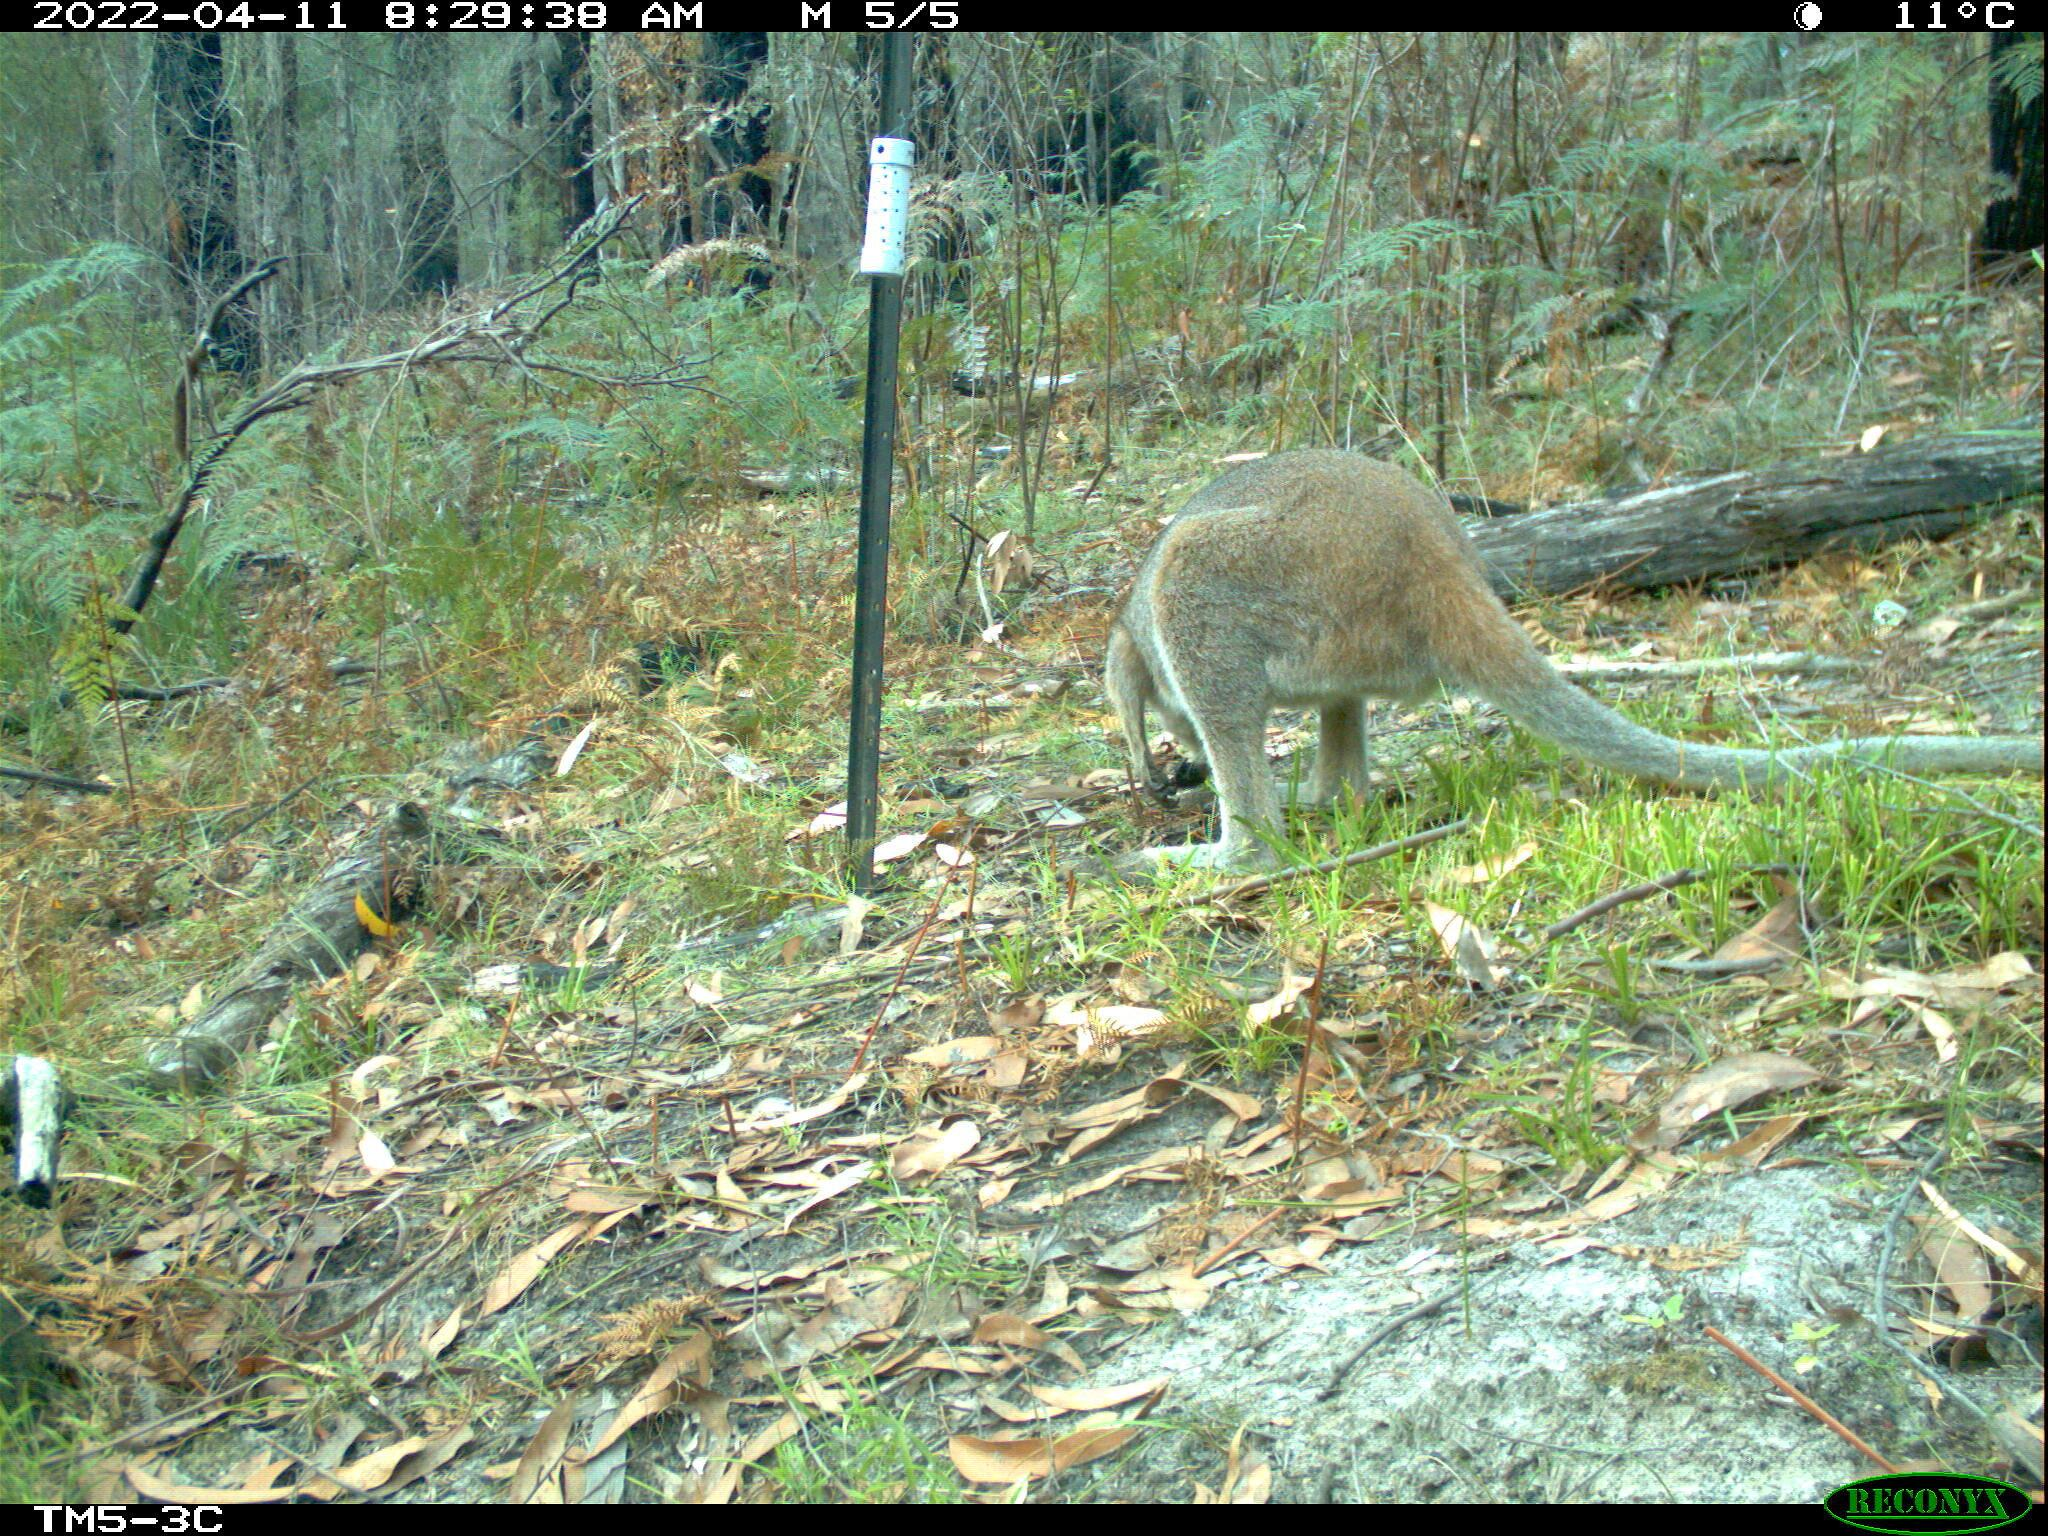Red-necked wallaby: (1105, 442, 2048, 886)
